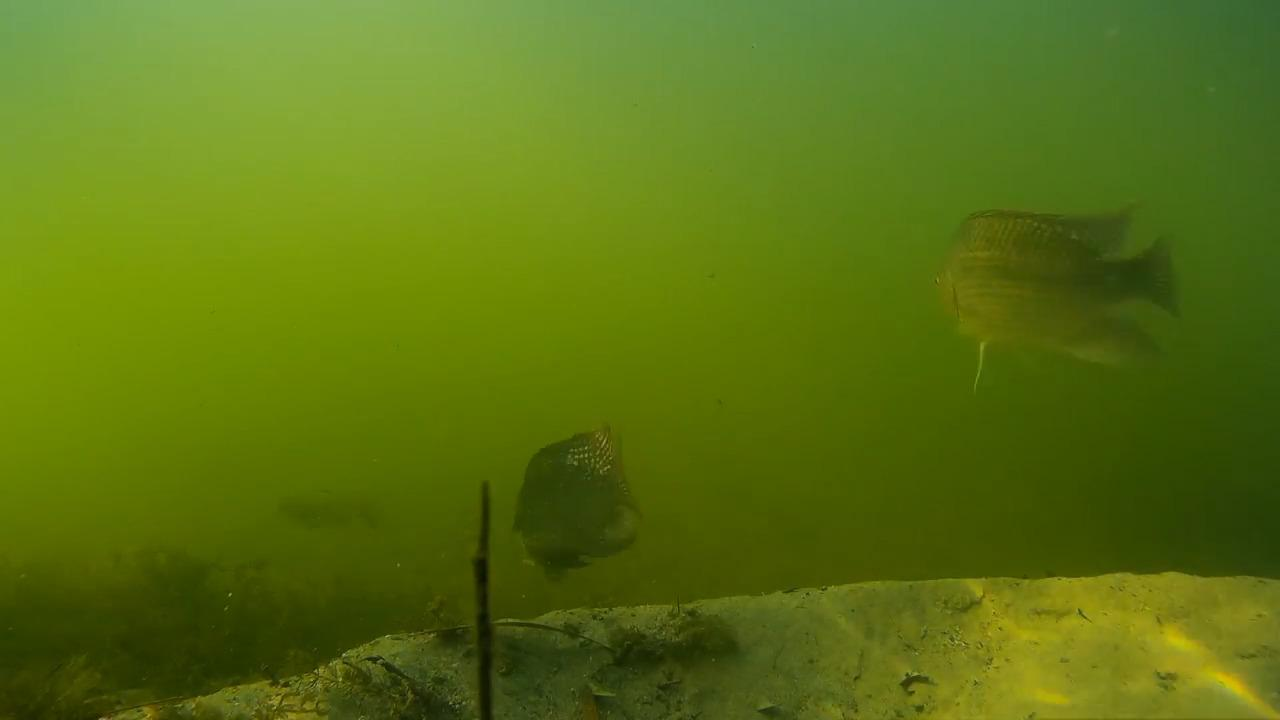Tilapia: (925, 196, 1196, 398), (501, 414, 656, 588), (274, 480, 407, 562)
